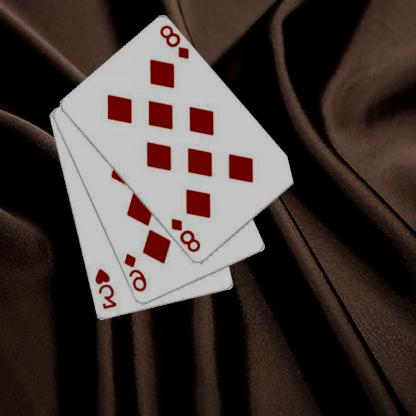3H: (94, 266, 120, 310)
8D: (158, 22, 192, 61), (170, 216, 204, 254)
9D: (123, 251, 150, 294)
